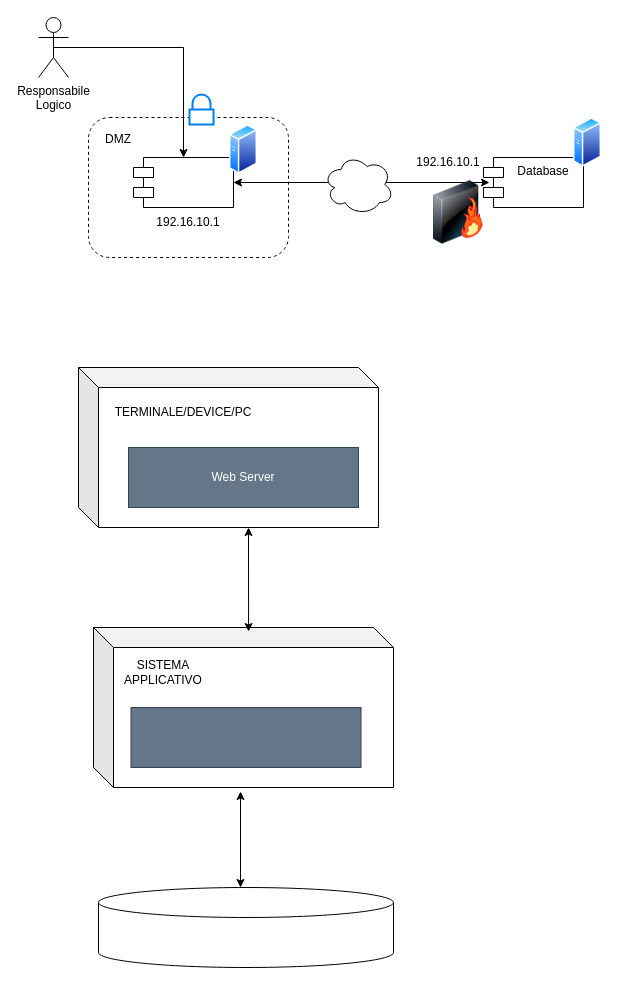
Some shapes in this 619 by 985 pixel diagram are drawn without their labels. Each missing label, with the centre of its shape:
"DATABASE DBMSR: MySQR" belongs at point (246, 927).
"Sistema" belongs at point (183, 182).
